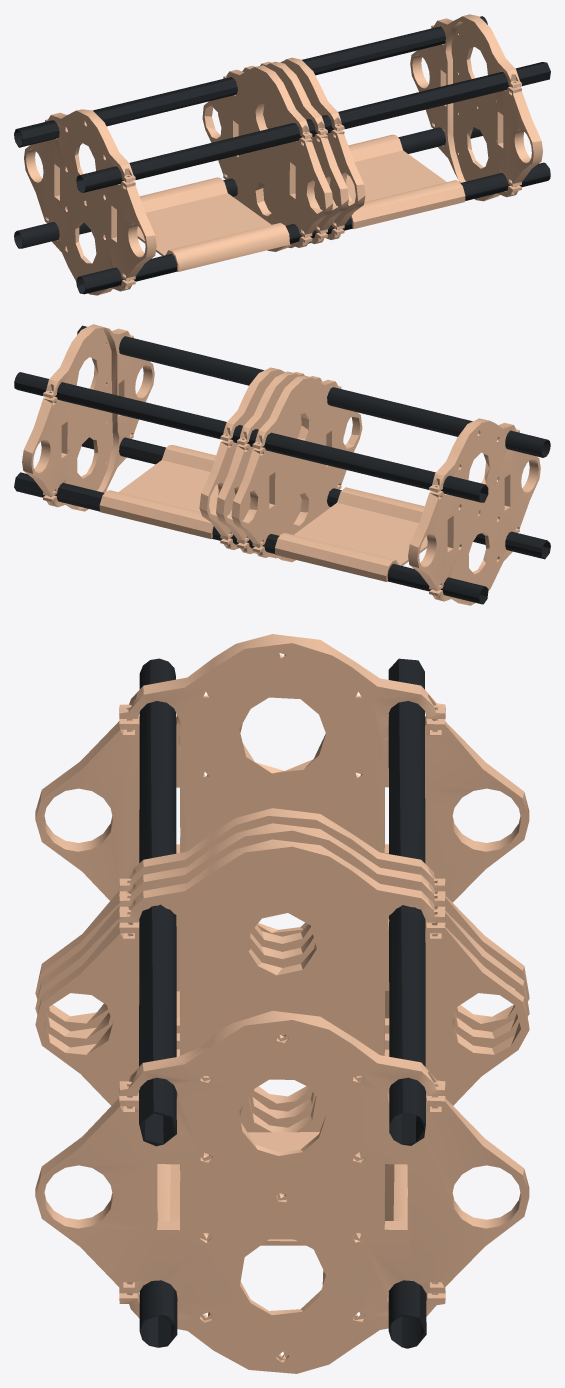
3 renders of one model, top to bottom at view 1: azimuth 30°, elevation 25°; view 2: azimuth 150°, elevation 25°; view 3: azimuth 270°, elevation 25°, orthographic. The views are drawn at different scales.
Parts seen in each view (by area): view 1: tmp_export_base_link; view 2: tmp_export_base_link; view 3: tmp_export_base_link.
Part boxes in pixels (box(x1,y1,x2,y2)): tmp_export_base_link: box(14, 14, 550, 295); tmp_export_base_link: box(14, 324, 550, 605); tmp_export_base_link: box(35, 634, 529, 1373).
Bounding box in the file's own units: 0.5 × 0.2301 × 0.1819.
